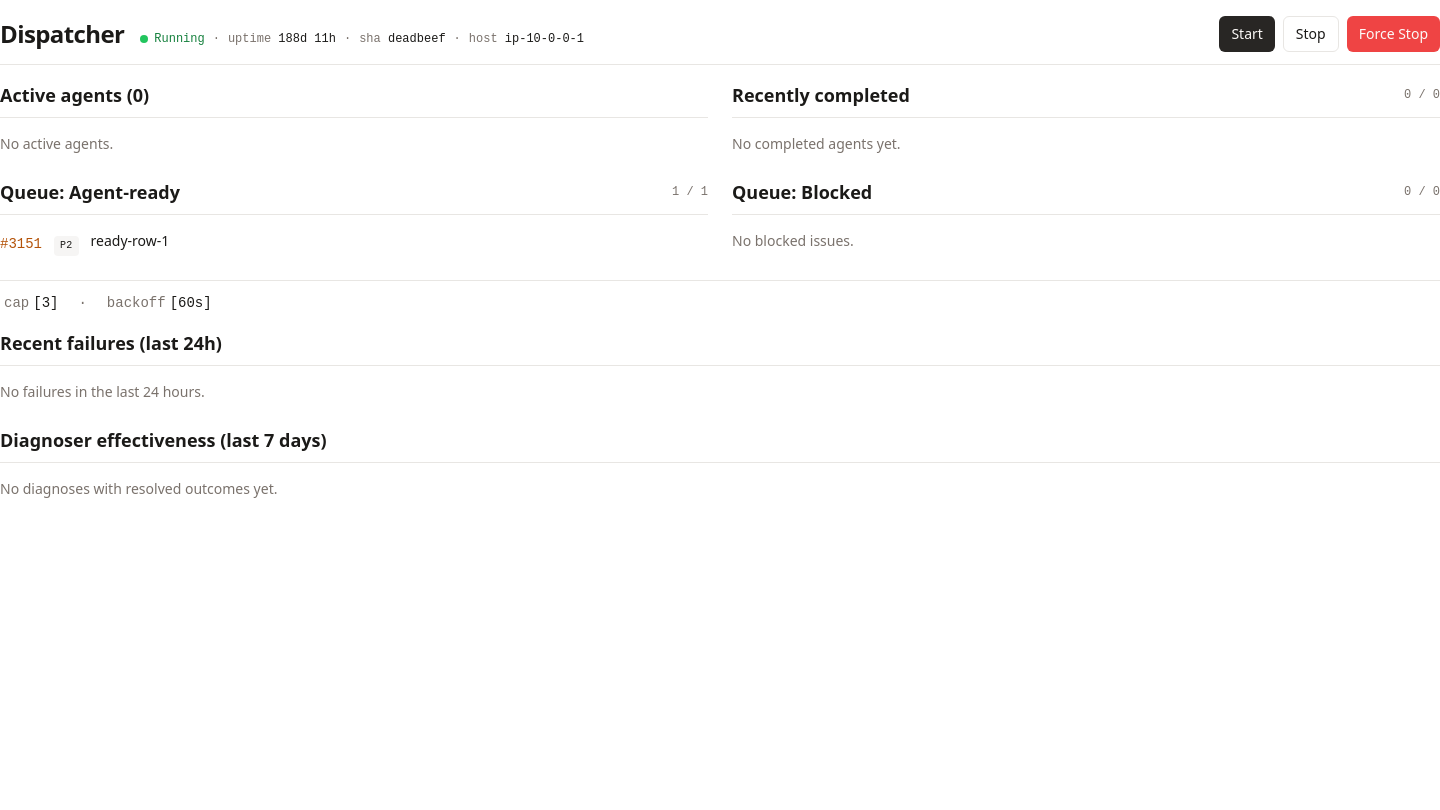
Test: DispatcherDashboard — #3206 dialog-open view-transition gate › opening the Ready dialog strips view-transition-name from Ready rows
Click the button with test id "queue-ready-count" at (690, 192), box x1=672 y1=184 x2=708 y2=200
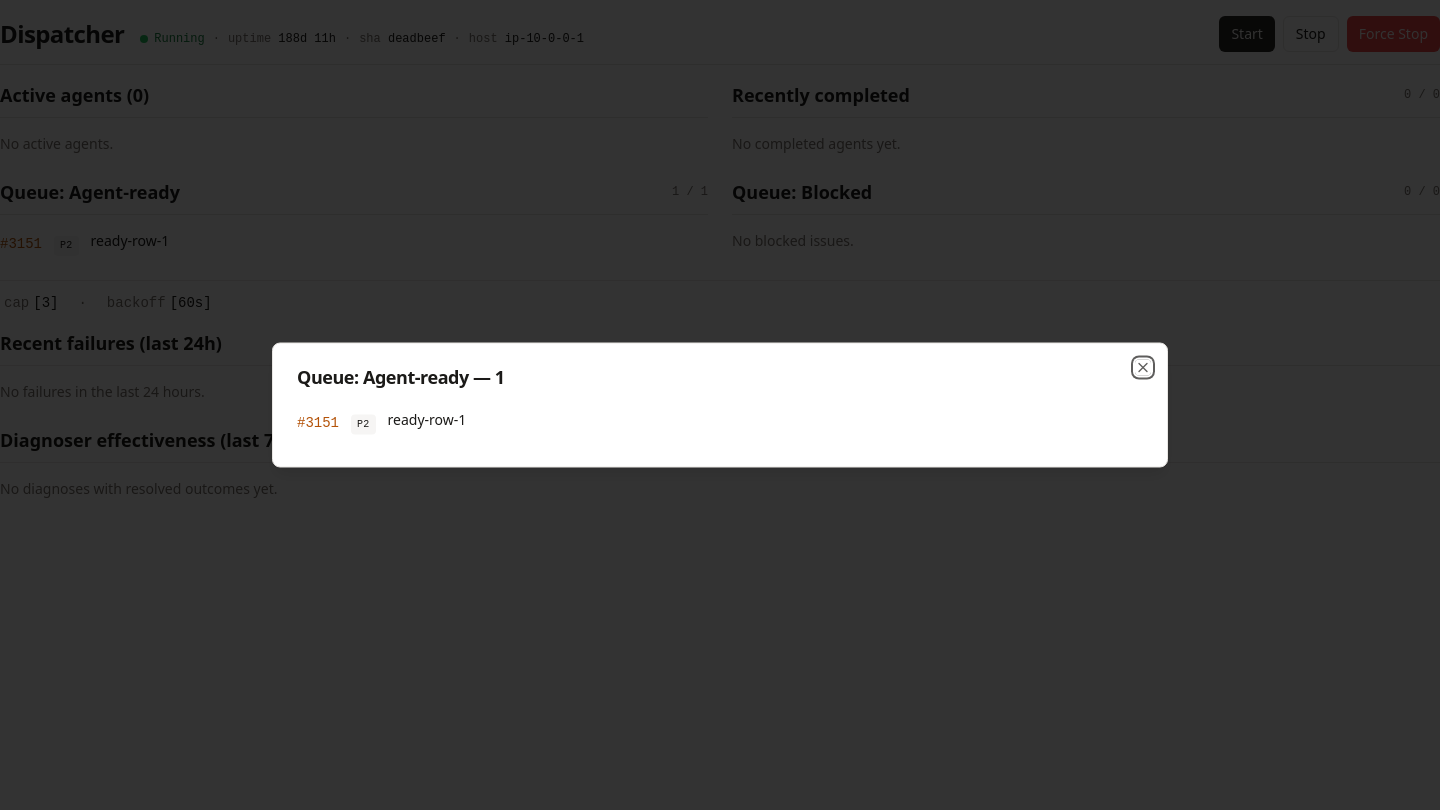
expect the dialog with test id "queue-full-dialog" is shown: met, box x1=272 y1=342 x2=1168 y2=468
